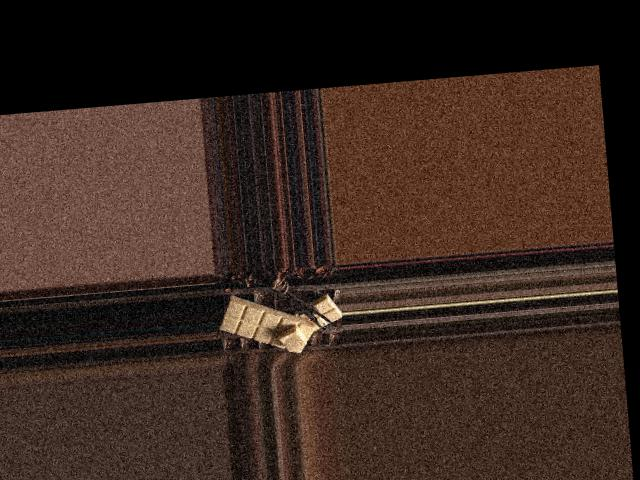chocolate: (218, 290, 319, 358)
